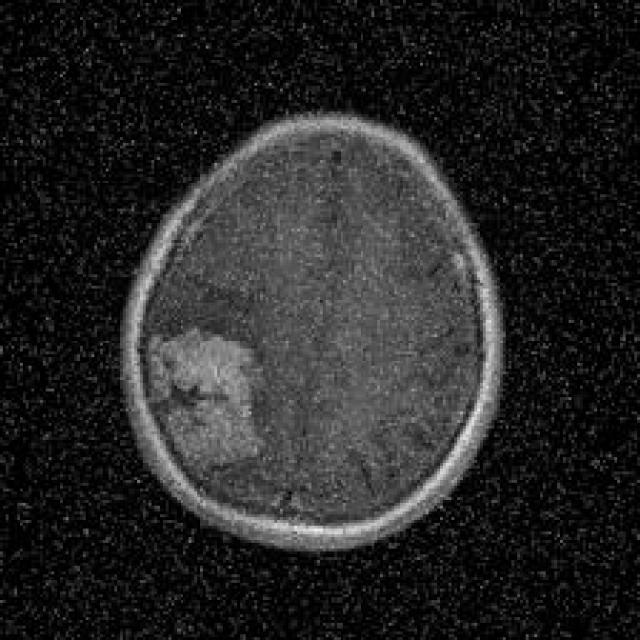meningioma_tumor: (137, 316, 284, 481)
